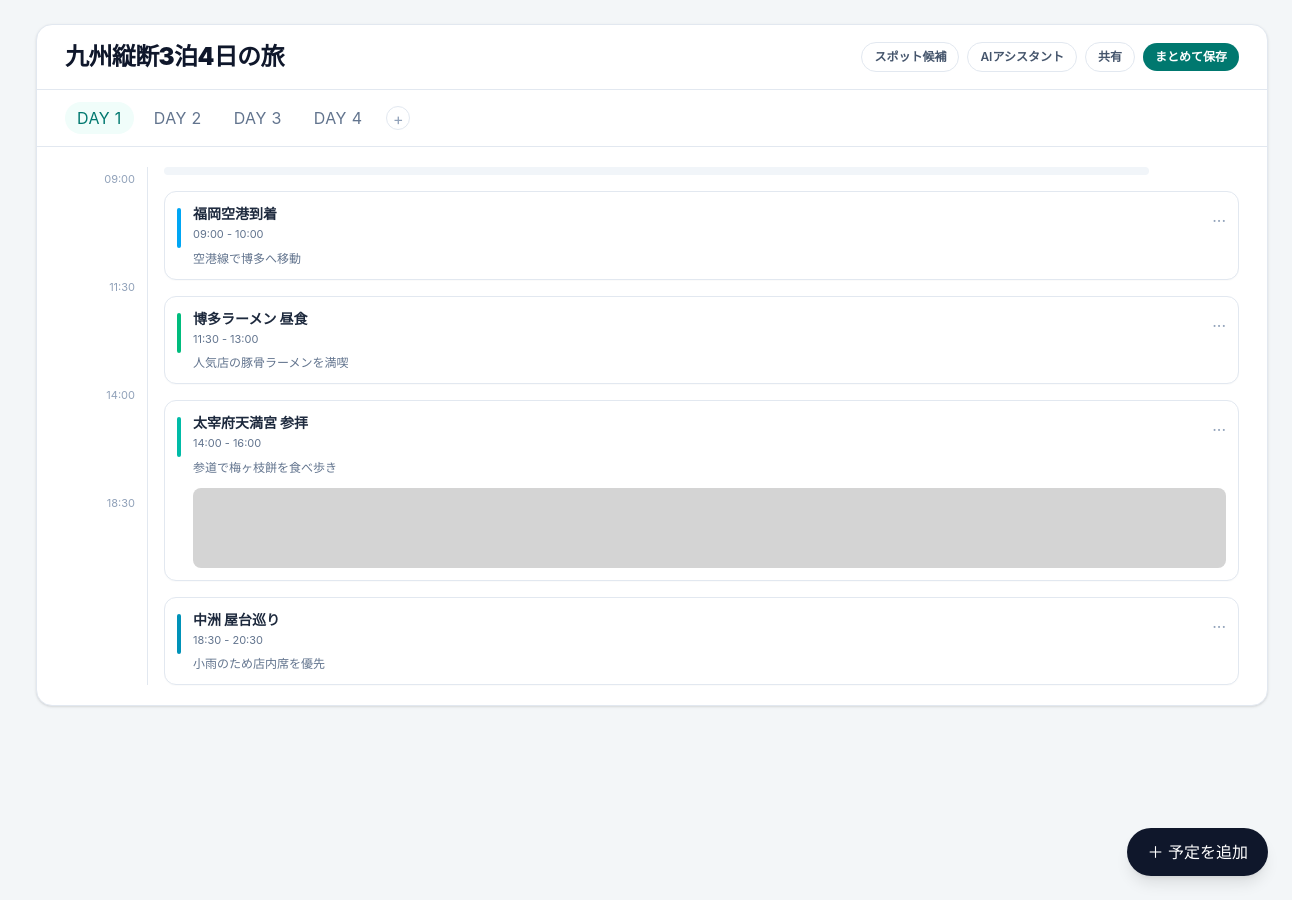
Test: 旅行プランDraftフロー › ホームの既存表示を維持し、予定を追加から手動作成画面へ遷移する
Expected: the heading "九州縦断3泊4日の旅" is shown, [65,41,284,73]
Expected: the button "AIアシスタント" is shown, [967,42,1077,72]
What coordinates should you click on to do the following:
click the button "＋ 予定を追加"
I would click on:
 (1198, 852)
Its box is [1128,828,1268,876].
(page scrolled)
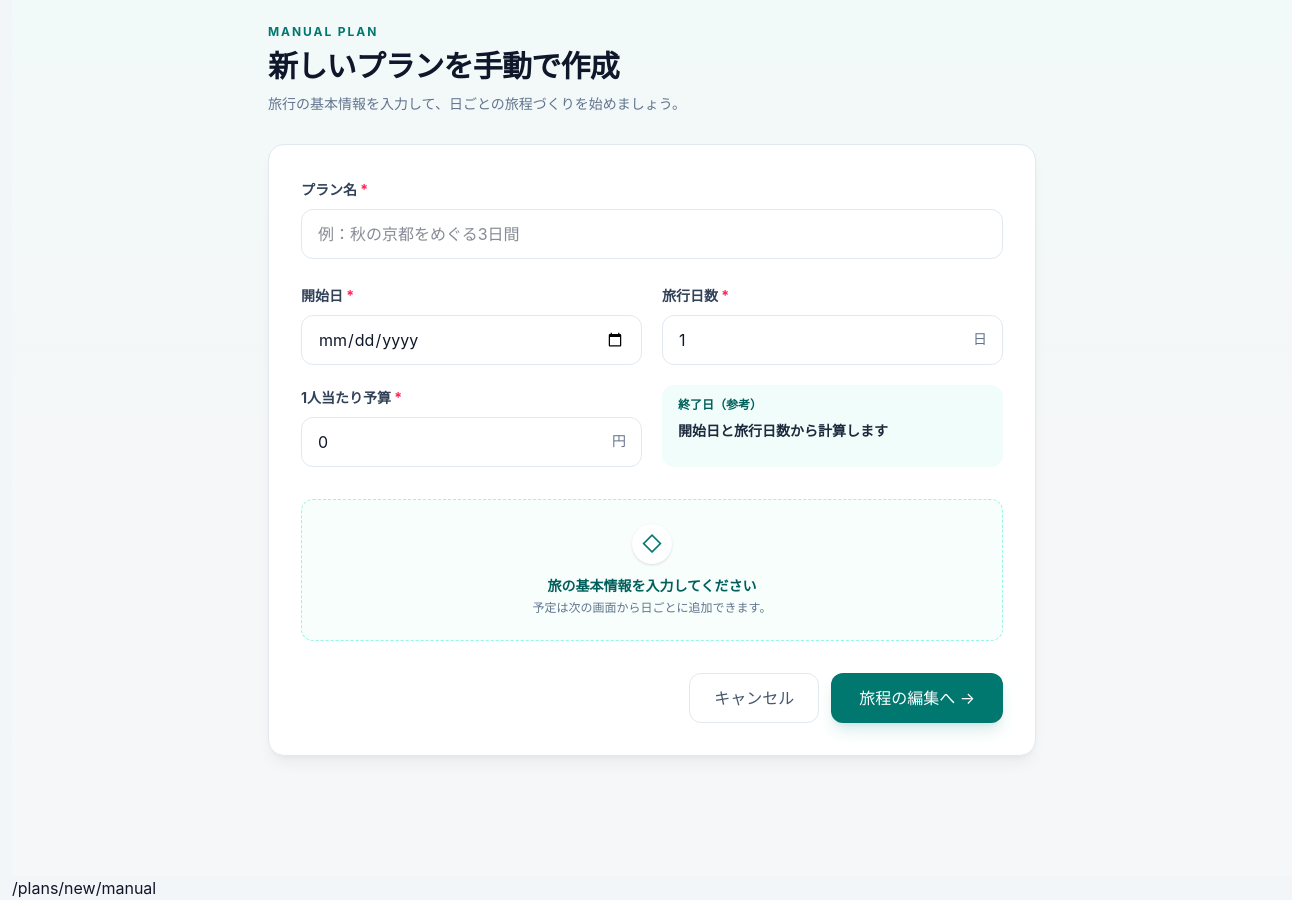
Result: the text with test id "location" reads "/plans/new/manual" at [12,878,156,898]
